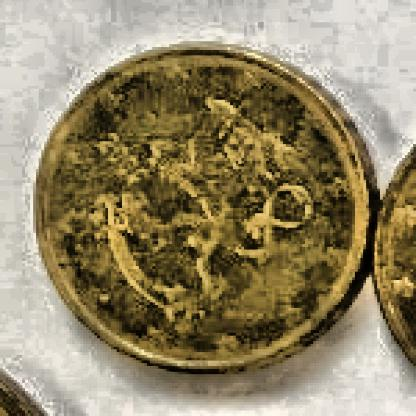coin: (38, 43, 376, 374)
